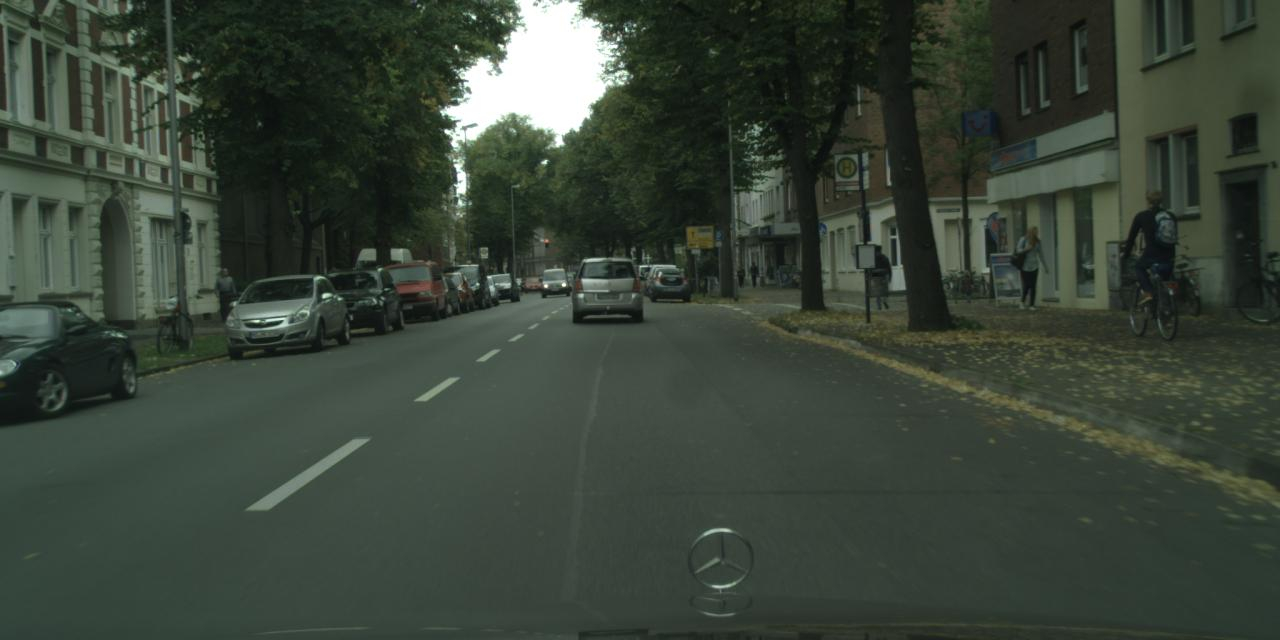ped: (1130, 189, 1180, 315), (1013, 225, 1046, 306), (868, 245, 892, 307), (216, 268, 238, 322), (748, 261, 758, 288), (736, 262, 746, 288)
